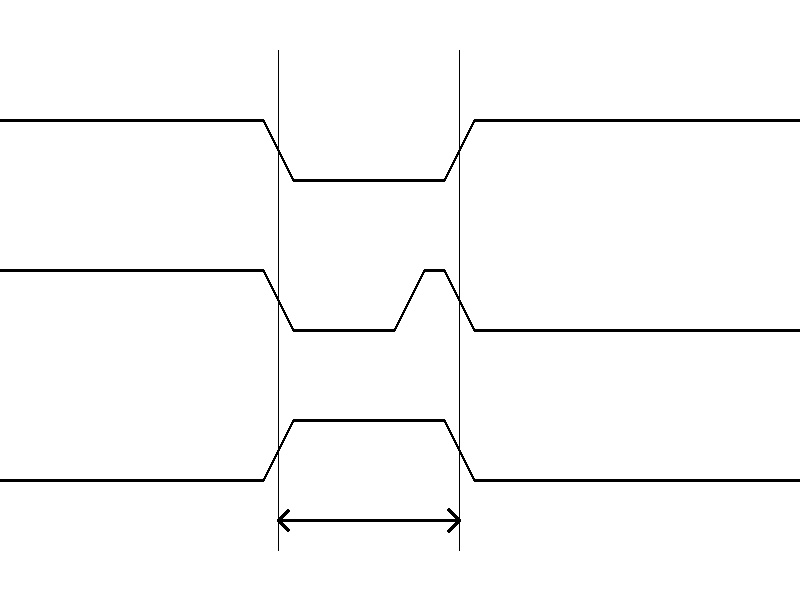double_arrow: (278, 505, 459, 535)
